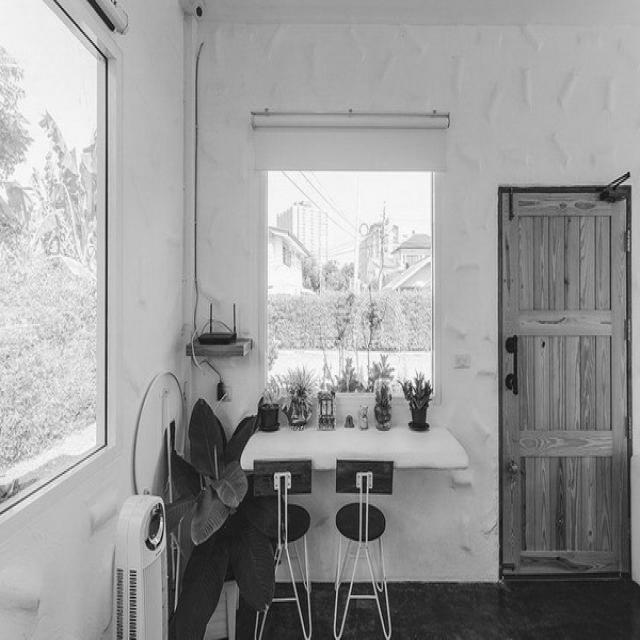table: (242, 402, 482, 533)
